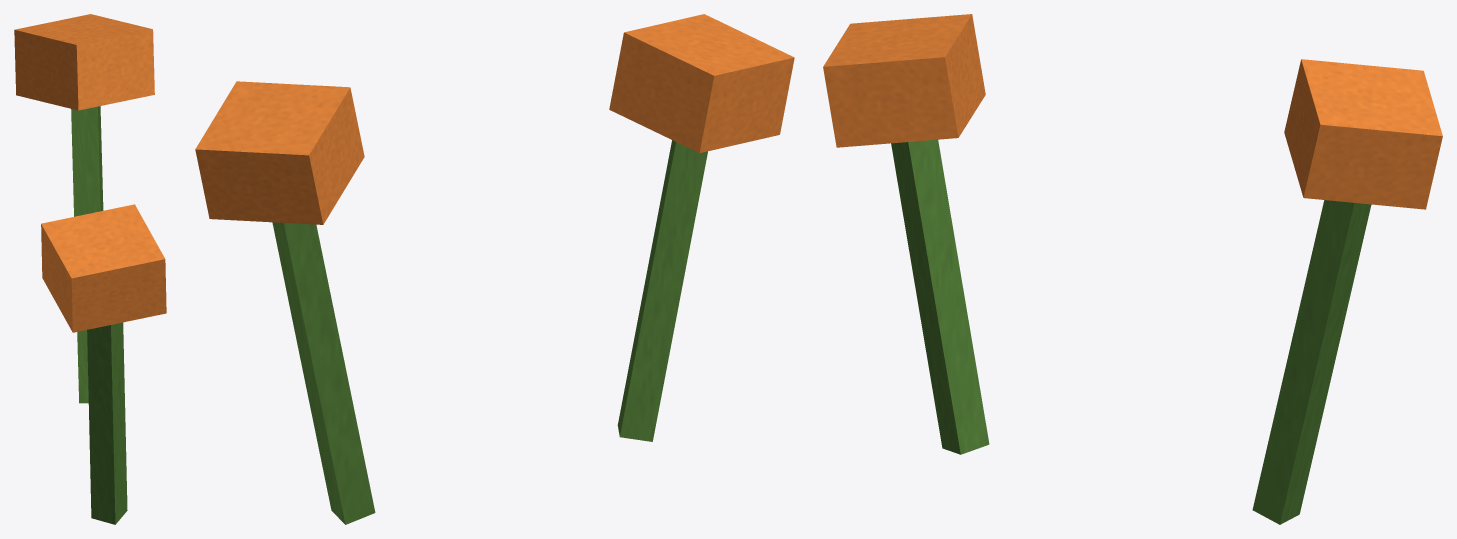
The model's file is Deco_Fleurs_B.obj.
The picture shows the model from 3 angles, left to right: view 1: azimuth 30°, elevation 25°; view 2: azimuth 150°, elevation 25°; view 3: azimuth 270°, elevation 25°; orthographic projection. The views are drawn at different scales.
Parts seen in each view (by area): view 1: Deco_Fleurs_B; view 2: Deco_Fleurs_B; view 3: Deco_Fleurs_B.
Boxes of the visible parts, <box> form: Deco_Fleurs_B: <box>14,14,166,524</box>; Deco_Fleurs_B: <box>195,14,794,524</box>; Deco_Fleurs_B: <box>823,14,1442,524</box>.
Bounding box in the file's own units: 1.36 × 1.74 × 2.16.
1 material, 1 textured.
